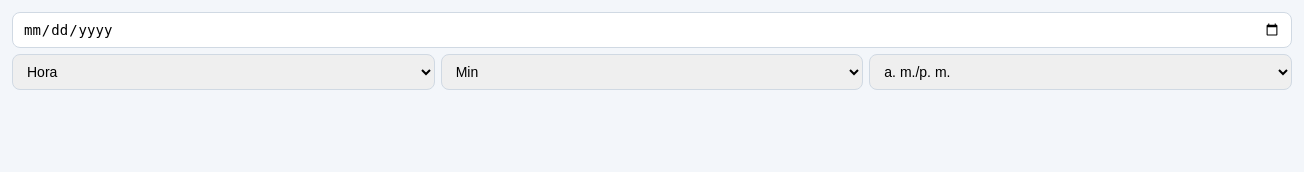
Scenario: CampoFechaHora › solo da un valor cuando están fecha, hora, minuto y jornada
Step 1. Type "2026-11-09" into the date field named "Fecha" → (652,30), box x1=12 y1=12 x2=1292 y2=48
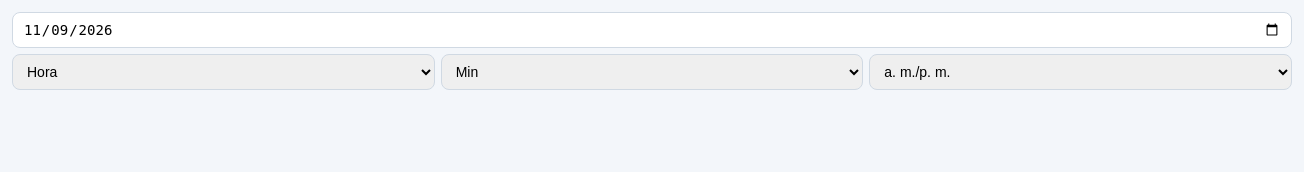
Step 2. Select "7" in the dropdown named "Hora" → (223,72), box x1=12 y1=54 x2=435 y2=90
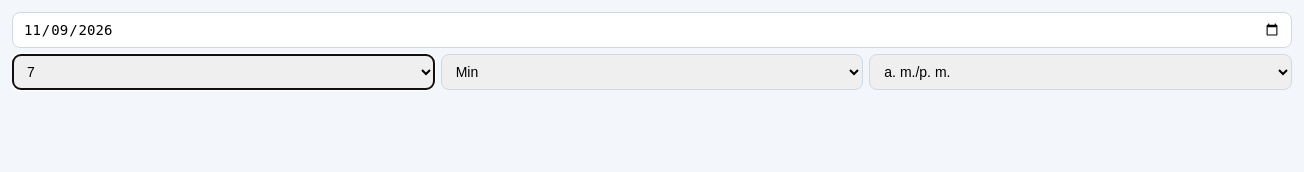
Step 3. Select "35" in the dropdown named "Minuto" → (652,72), box x1=441 y1=54 x2=863 y2=90
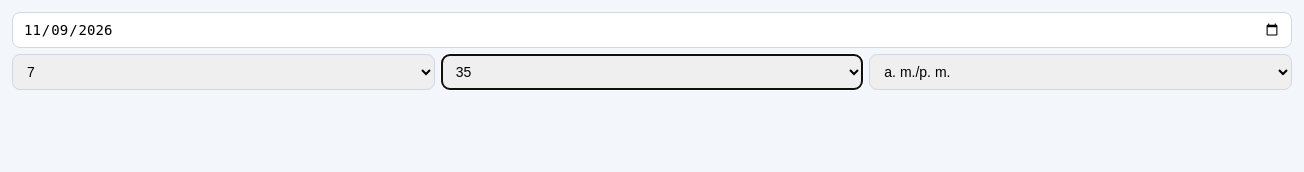
Step 4. Select "p. m." in the dropdown named "Jornada" → (1081,72), box x1=869 y1=54 x2=1292 y2=90
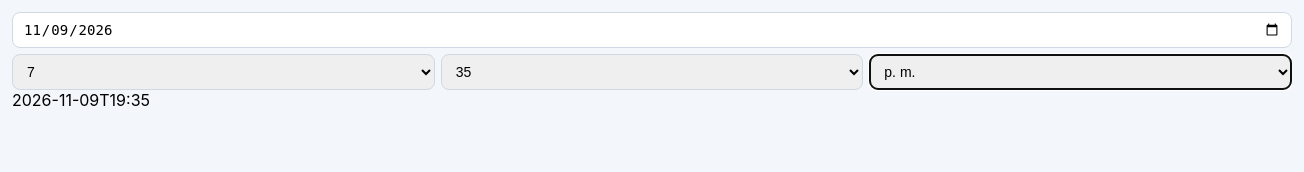
Expected: the text with test id "valor" reads "2026-11-09T19:35", x1=12 y1=90 x2=150 y2=110
